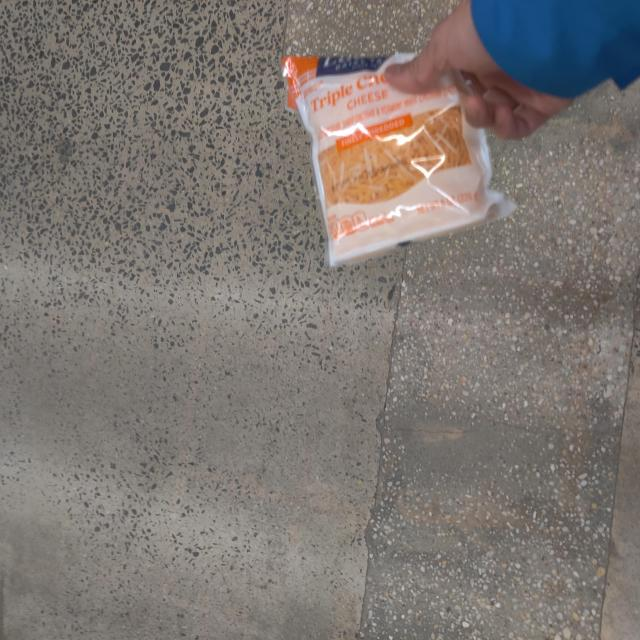Cheese: (274, 36, 520, 268)
